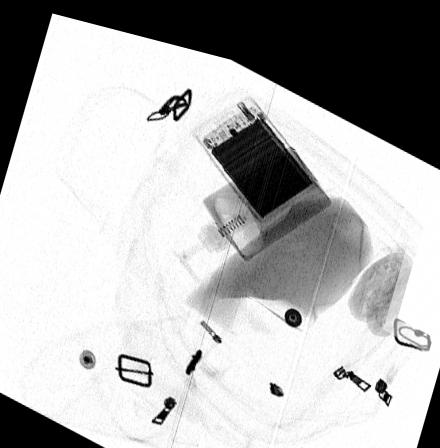Powerbank: (195, 83, 317, 207)
